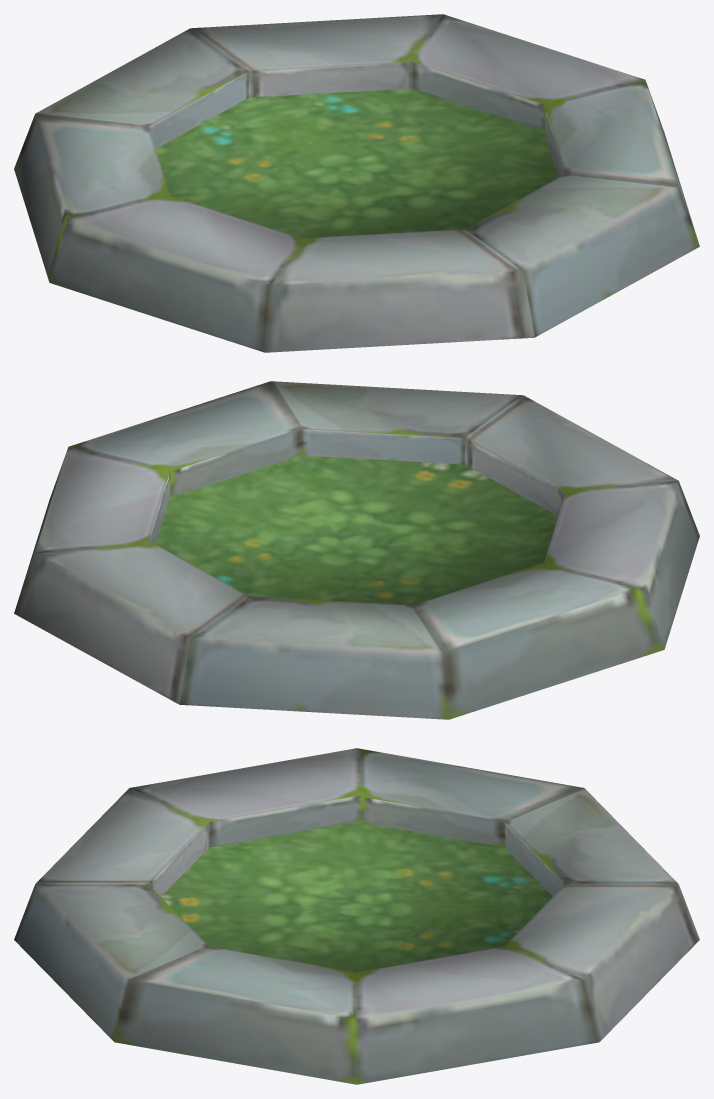
Rendered from Map_06_flowerpot03.FBX.
The picture shows the model from 3 angles, top to bottom: view 1: azimuth 30°, elevation 25°; view 2: azimuth 150°, elevation 25°; view 3: azimuth 270°, elevation 25°; orthographic projection. The views are drawn at different scales.
Parts seen in each view (by area): view 1: Map_06_flowerpot03; view 2: Map_06_flowerpot03; view 3: Map_06_flowerpot03.
Boxes of the visible parts, <box> form: Map_06_flowerpot03: <box>14,14,699,352</box>; Map_06_flowerpot03: <box>14,381,699,719</box>; Map_06_flowerpot03: <box>14,748,699,1084</box>.
Bounding box in the file's own units: 409 × 409 × 36.63.
